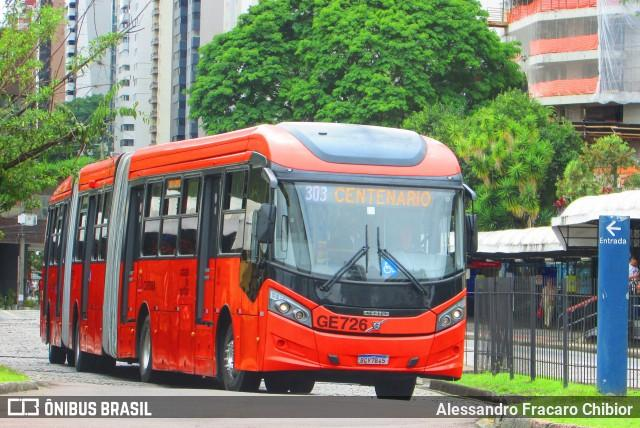CENTENARIO: (328, 182, 438, 209)
